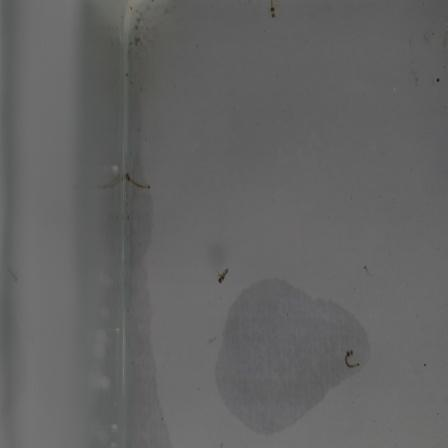Jentik-Nyamuk: (120, 169, 153, 193), (341, 346, 363, 374), (214, 263, 231, 287), (264, 0, 279, 21)
